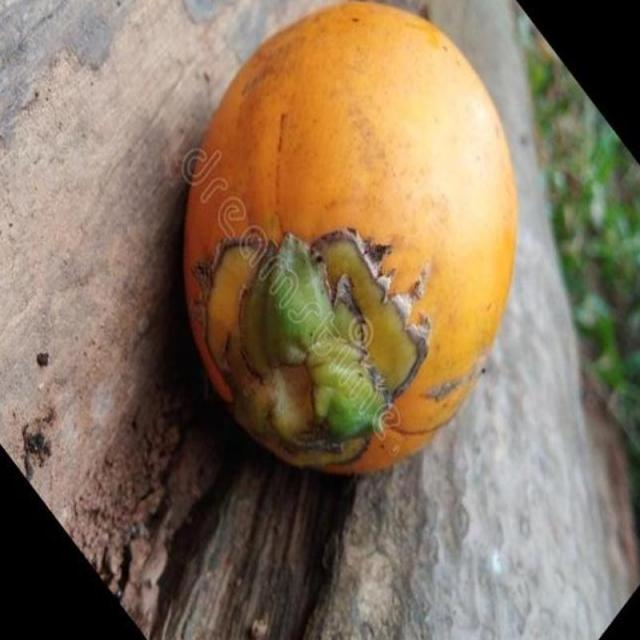good: (183, 2, 518, 478)
